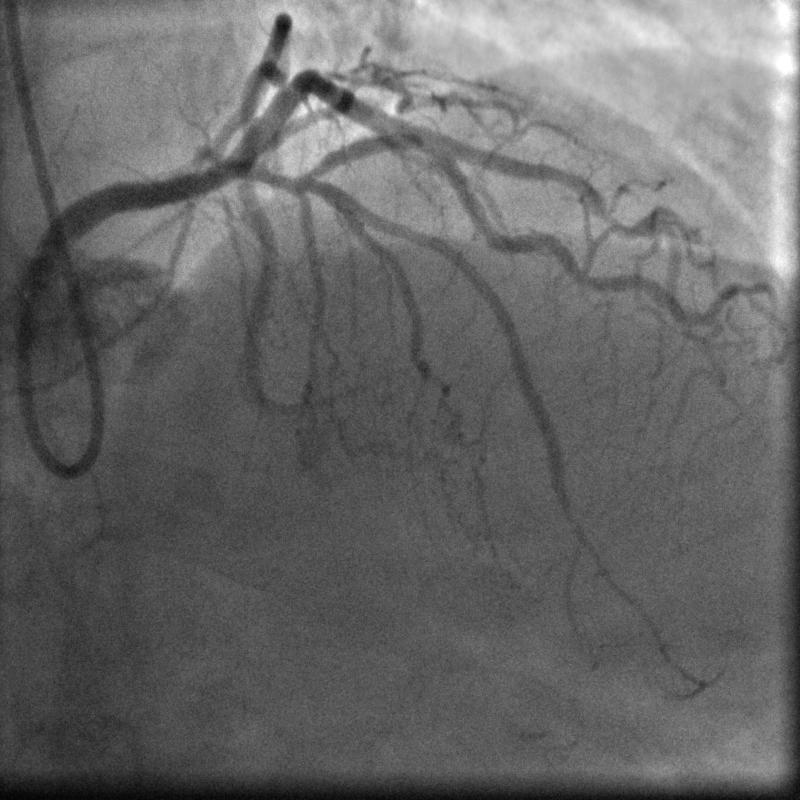Stenosis: (405, 130, 454, 170)
